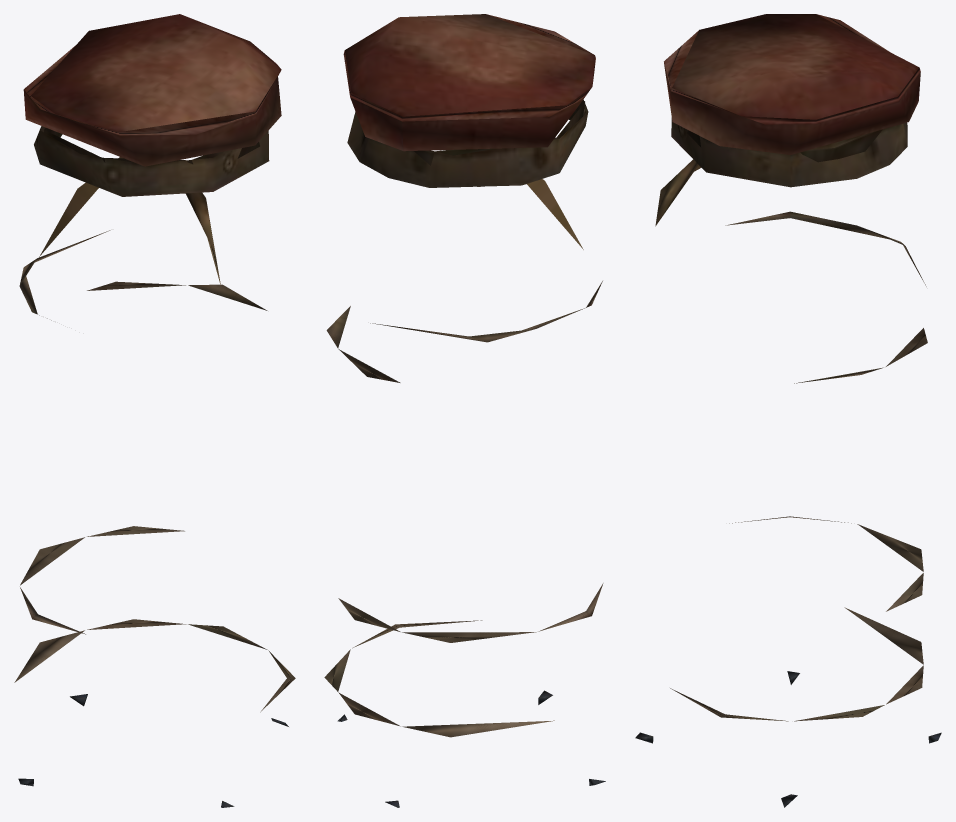
File: metal_stool_01.glb
3 views of the same model, side by side, from view 1: azimuth 30°, elevation 25°; view 2: azimuth 150°, elevation 25°; view 3: azimuth 270°, elevation 25° (orthographic).
Visible parts, largest first — view 1: metal_stool_01; view 2: metal_stool_01; view 3: metal_stool_01.
Boxes of the visible parts, x1=… form: metal_stool_01: x1=14, y1=14, x2=295, y2=807; metal_stool_01: x1=324, y1=14, x2=605, y2=807; metal_stool_01: x1=635, y1=14, x2=941, y2=807.
Size of the model in its own units: 0.3479 by 0.8758 by 0.3473.
Materials: 1 (1 with a texture image).
